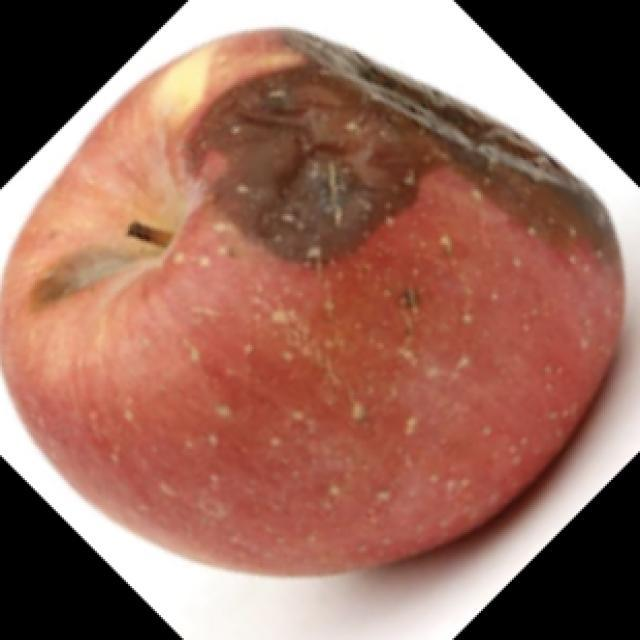Rotten: (0, 21, 623, 571)
